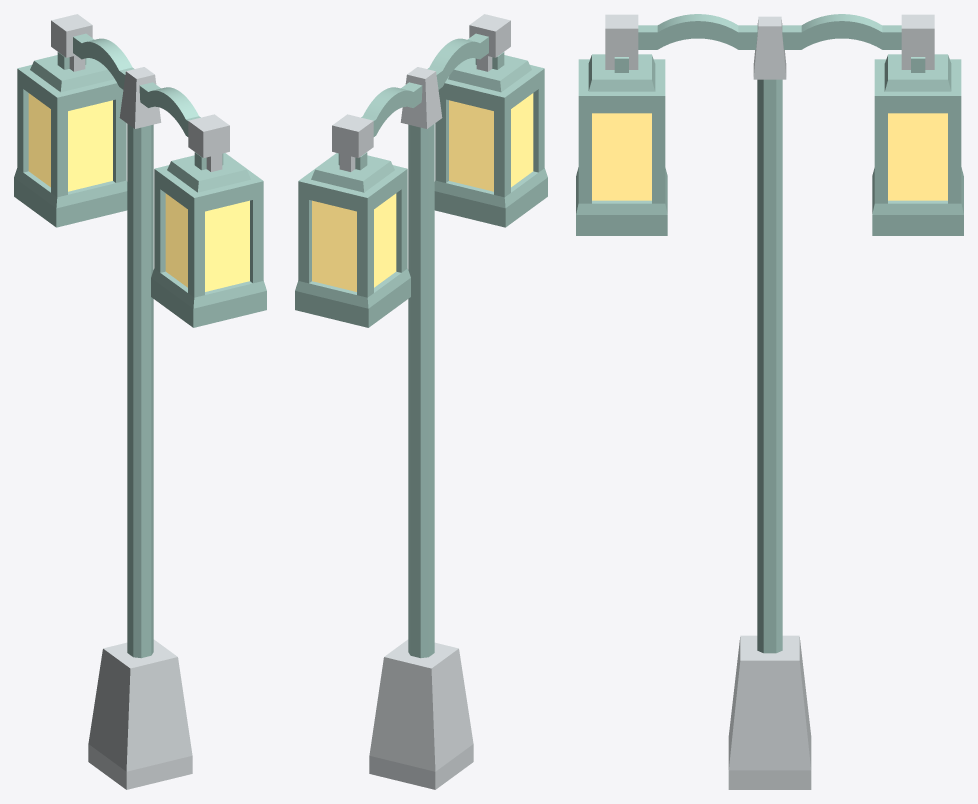
Rendered from lanternDouble.glb.
3 views of the same model, side by side, from view 1: azimuth 30°, elevation 25°; view 2: azimuth 150°, elevation 25°; view 3: azimuth 270°, elevation 25° (orthographic). The views are drawn at different scales.
Parts seen in each view (by area): view 1: lanternDouble(Clone); view 2: lanternDouble(Clone); view 3: lanternDouble(Clone).
Boxes of the visible parts, x1,y1,x2,y2 form: lanternDouble(Clone): [14, 14, 266, 789]; lanternDouble(Clone): [295, 14, 547, 789]; lanternDouble(Clone): [576, 14, 963, 789].
Size of the model in its own units: 0.1459 by 1.33 by 0.6172.
